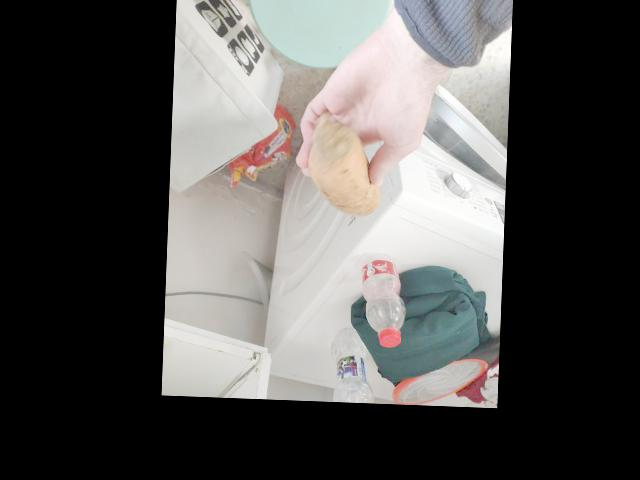sweet_potato: (307, 128, 377, 216)
